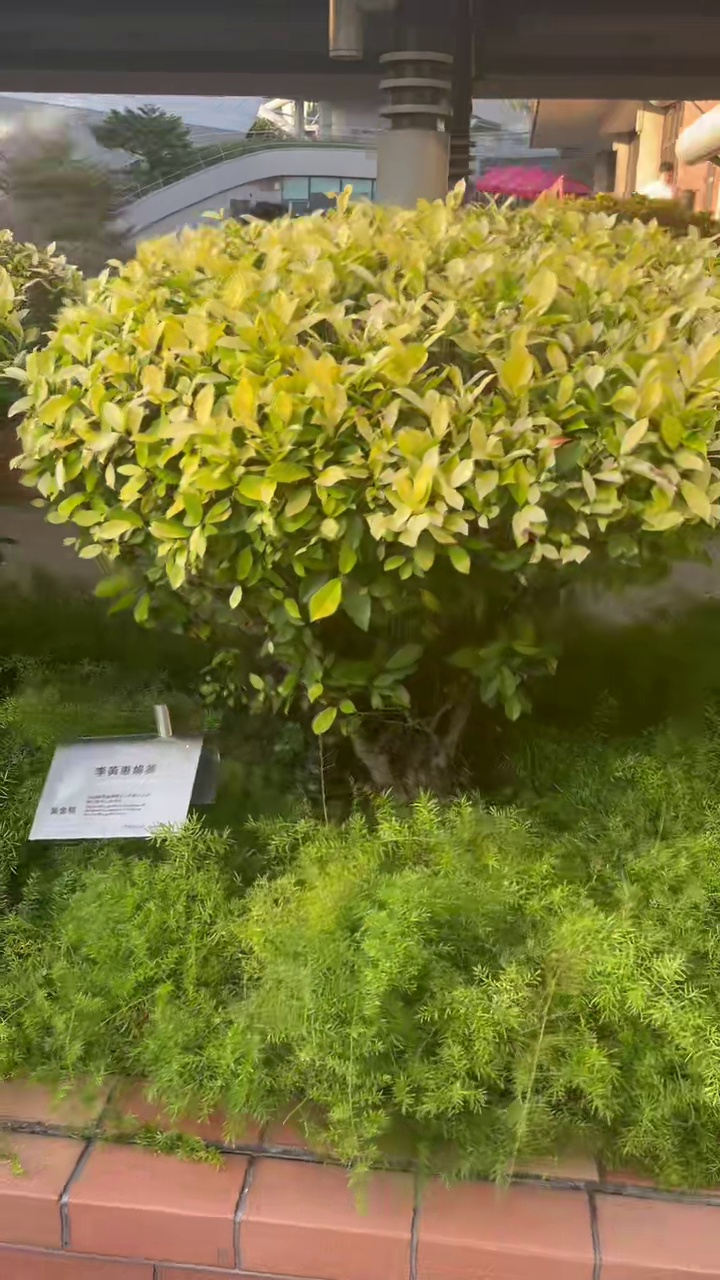Golden-leaves Fig: (15, 191, 719, 792)
